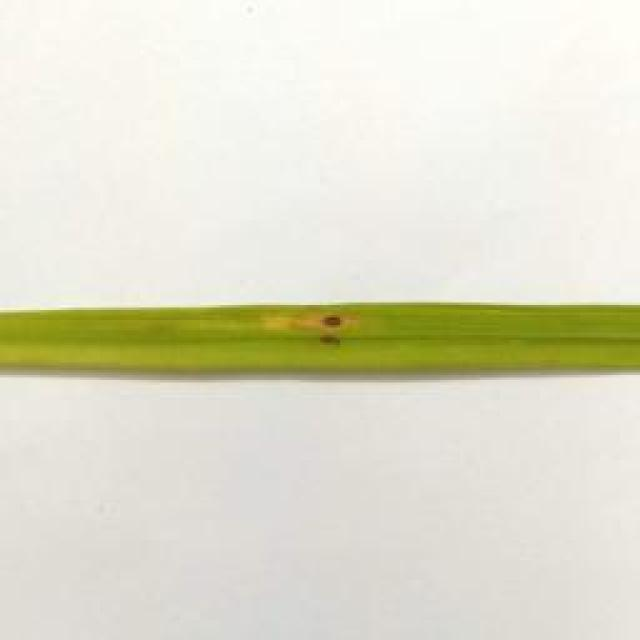Brown_Spot: (312, 332, 348, 358), (322, 310, 355, 330)
